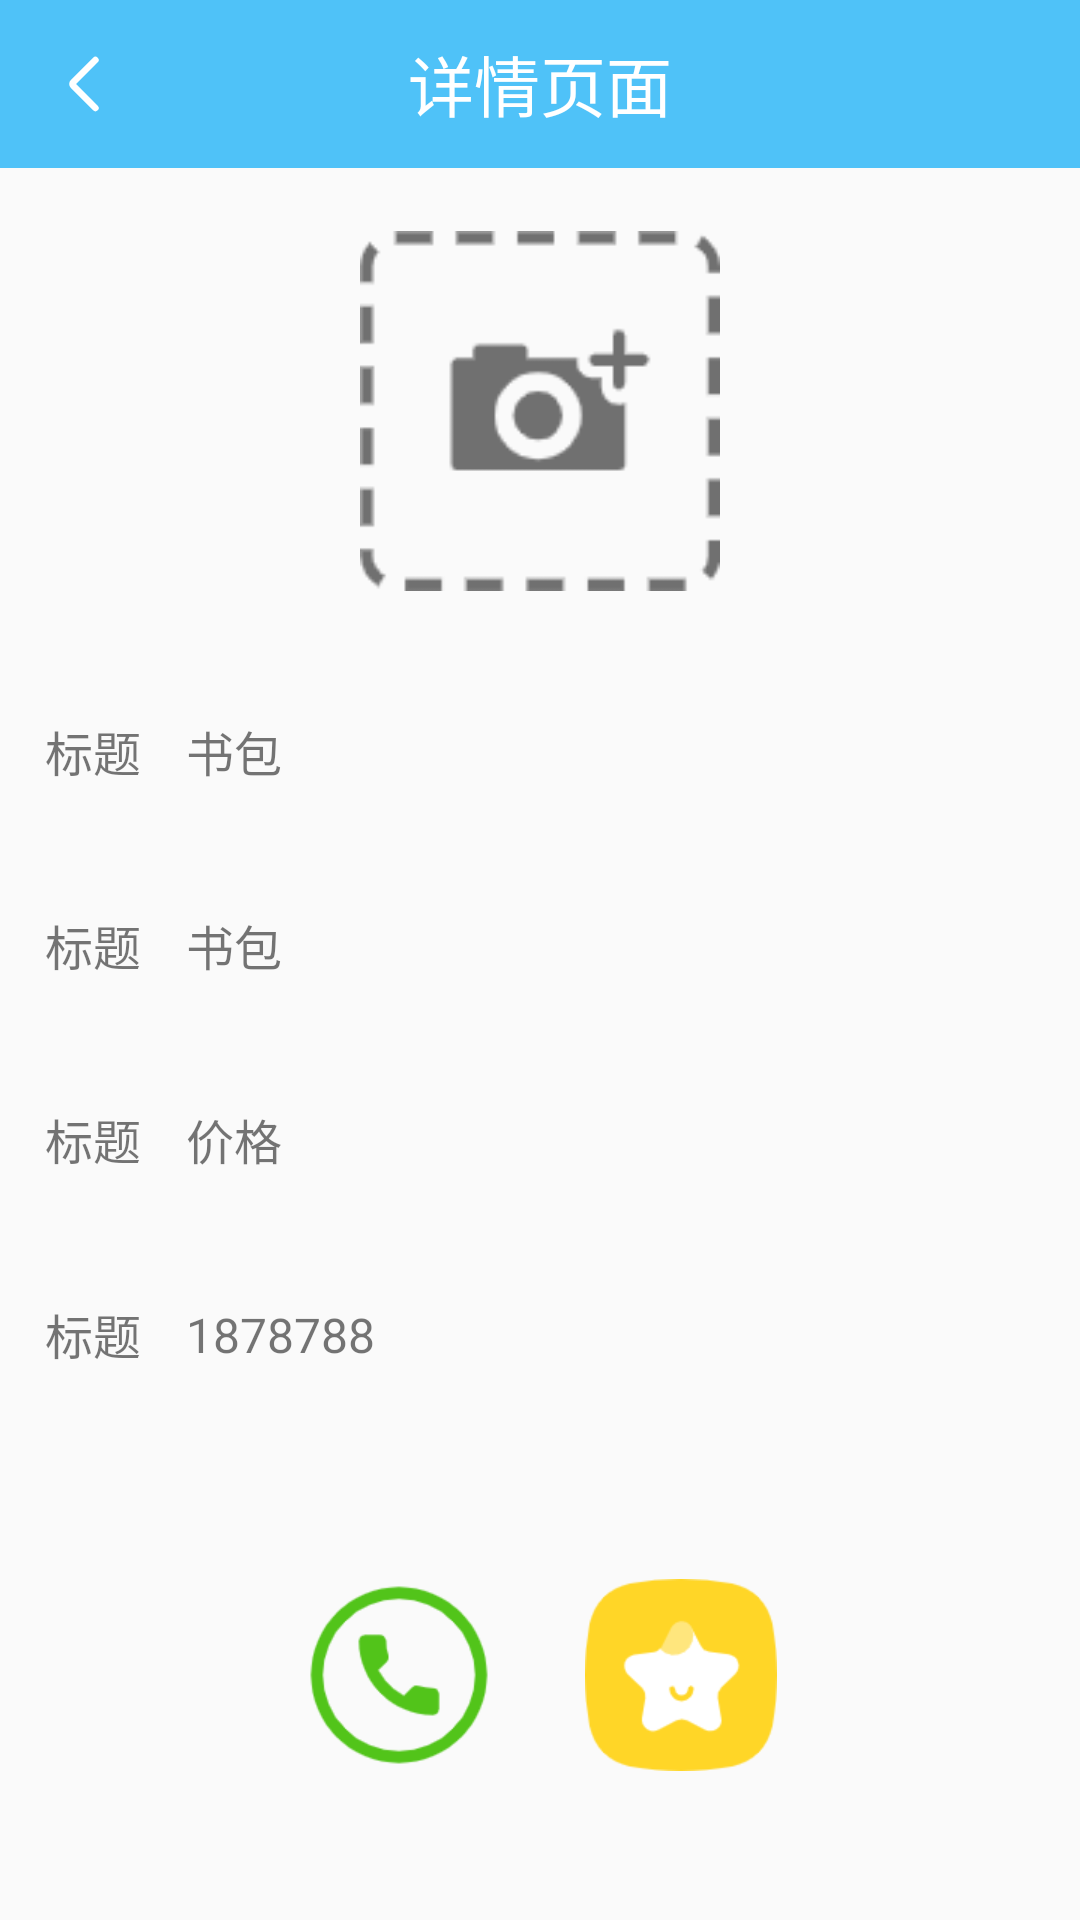

Where icons sit on this 1080px×1920px app screen, as rect(x1, y1, x2, y2):
favorite: rect(585, 1579, 777, 1771)
phone: rect(310, 1586, 488, 1764)
